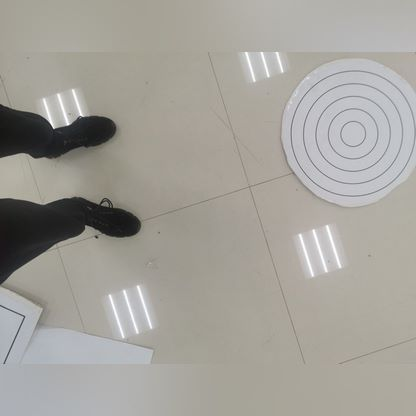circle: (288, 53, 416, 209)
